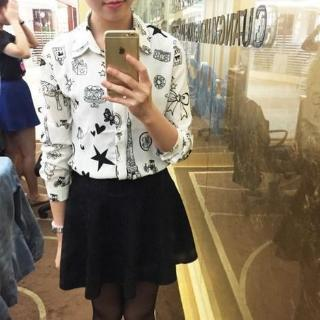long sleeve top: (38, 6, 194, 201)
skirt: (59, 167, 198, 300)
